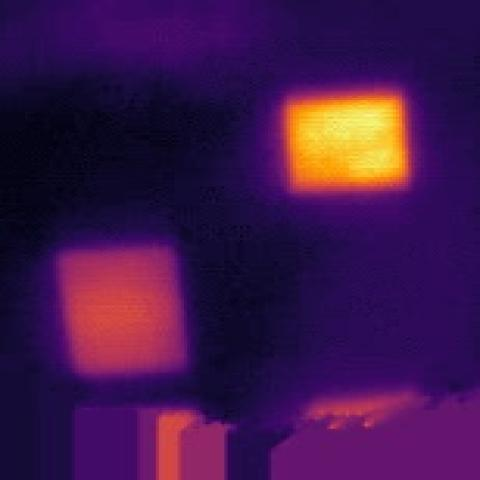fault: (58, 244, 195, 377), (278, 96, 416, 197), (291, 392, 428, 425), (145, 407, 205, 480)
